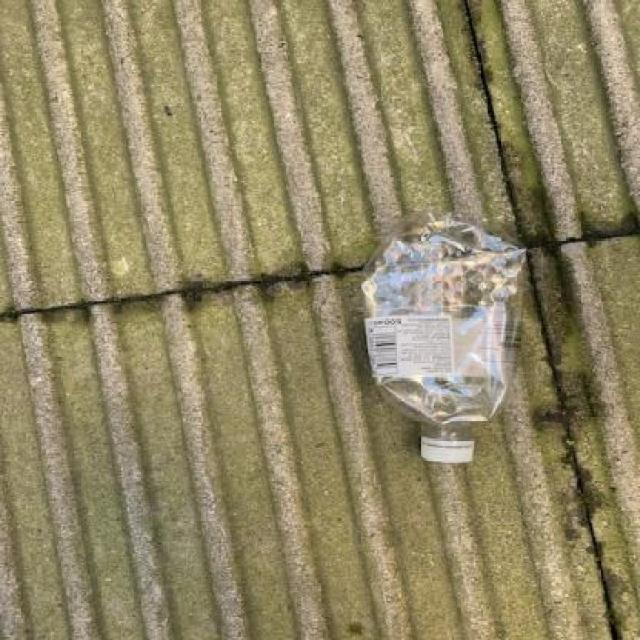trash: (353, 208, 529, 466)
